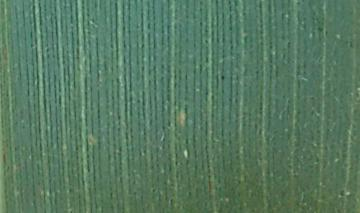tarspot: (220, 75, 226, 81)
